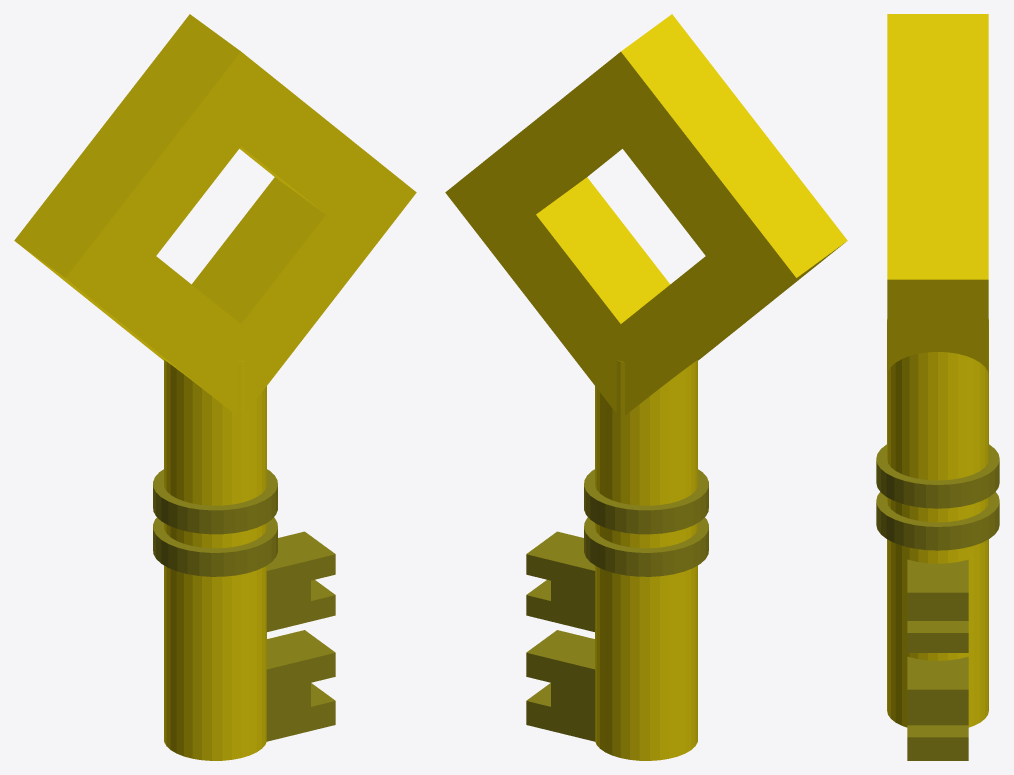
Rendered from Key2b.fbx.
3 views of the same model, side by side, from view 1: azimuth 30°, elevation 25°; view 2: azimuth 150°, elevation 25°; view 3: azimuth 270°, elevation 25° (orthographic).
Visible parts, largest first — view 1: Cube.002, Keypart1.004, Keypart6.004, Keypart5.004, Keypart3.004, Keypart4.004; view 2: Cube.002, Keypart1.004, Keypart6.004, Keypart5.004, Keypart3.004, Keypart4.004; view 3: Cube.002, Keypart1.004, Keypart6.004, Keypart5.004, Keypart3.004, Keypart4.004.
Part boxes in pixels (x1=…): Cube.002: x1=14, y1=14, x2=416, y2=415; Keypart1.004: x1=164, y1=360, x2=266, y2=760; Keypart6.004: x1=266, y1=630, x2=335, y2=741; Keypart5.004: x1=266, y1=531, x2=335, y2=631; Keypart3.004: x1=153, y1=469, x2=277, y2=534; Keypart4.004: x1=153, y1=517, x2=277, y2=576; Cube.002: x1=445, y1=14, x2=847, y2=415; Keypart1.004: x1=595, y1=360, x2=697, y2=760; Keypart6.004: x1=526, y1=630, x2=595, y2=741; Keypart5.004: x1=526, y1=531, x2=595, y2=631; Keypart3.004: x1=584, y1=469, x2=708, y2=534; Keypart4.004: x1=584, y1=517, x2=708, y2=576; Cube.002: x1=887, y1=14, x2=988, y2=373; Keypart1.004: x1=887, y1=319, x2=988, y2=727; Keypart6.004: x1=907, y1=656, x2=968, y2=760; Keypart5.004: x1=907, y1=559, x2=968, y2=652; Keypart3.004: x1=876, y1=444, x2=999, y2=508; Keypart4.004: x1=876, y1=492, x2=999, y2=550.
Bounding box in the file's own units: 61.03 × 117 × 18.86.
